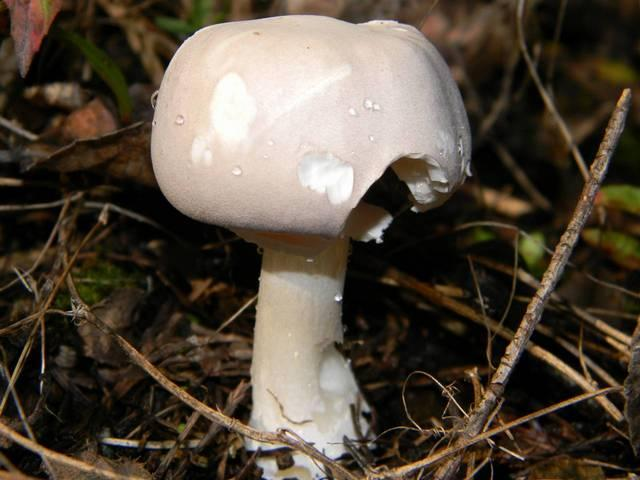poisonous_mushroom: (147, 13, 473, 479)
